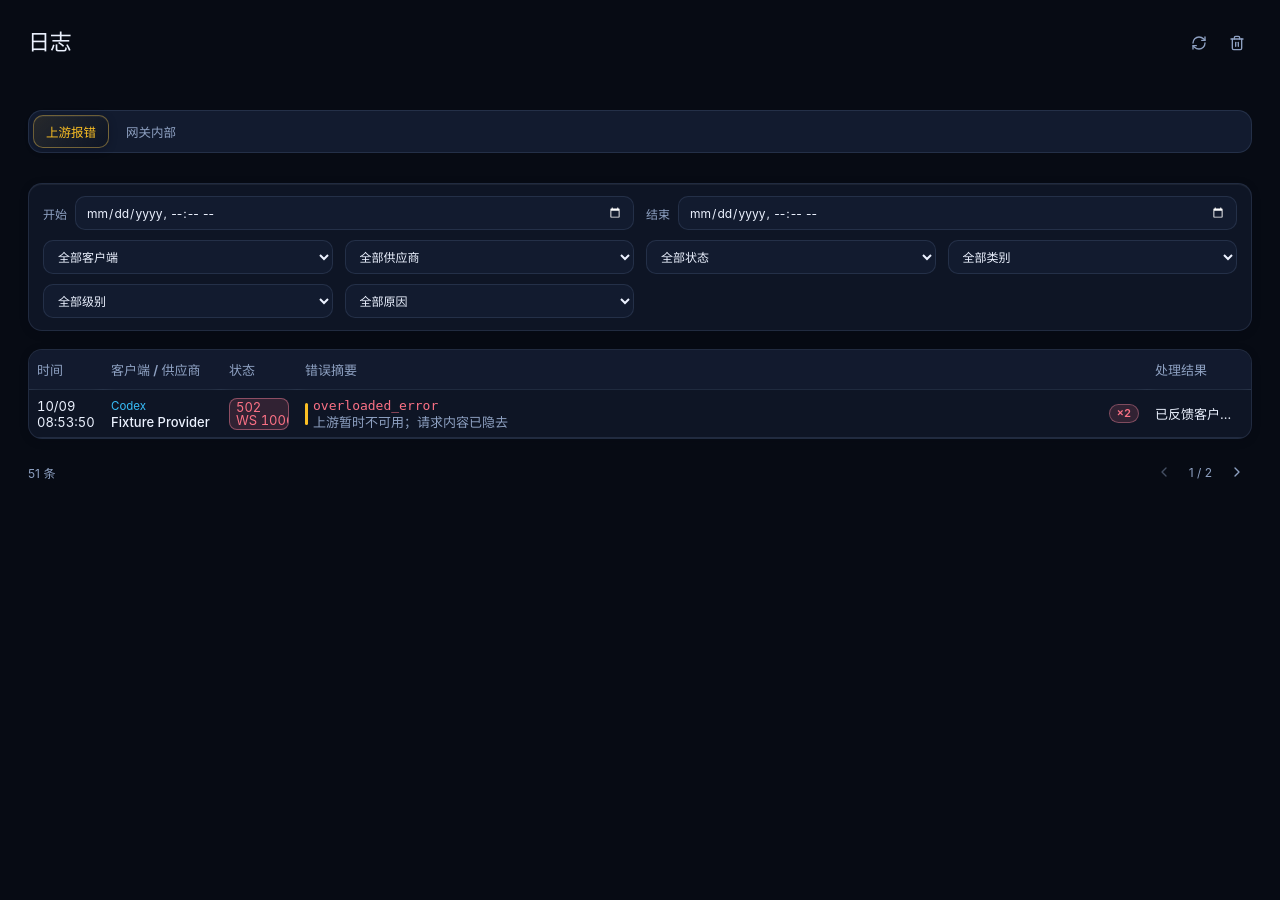
event log › shows upstream details and distinguishes WebSocket close codes from HTTP status
What coordinates should you click on to do the following:
click the button with aria-label "上游服务异常"
I would click on:
 (376, 405)
Its box is [305, 398, 1139, 430].
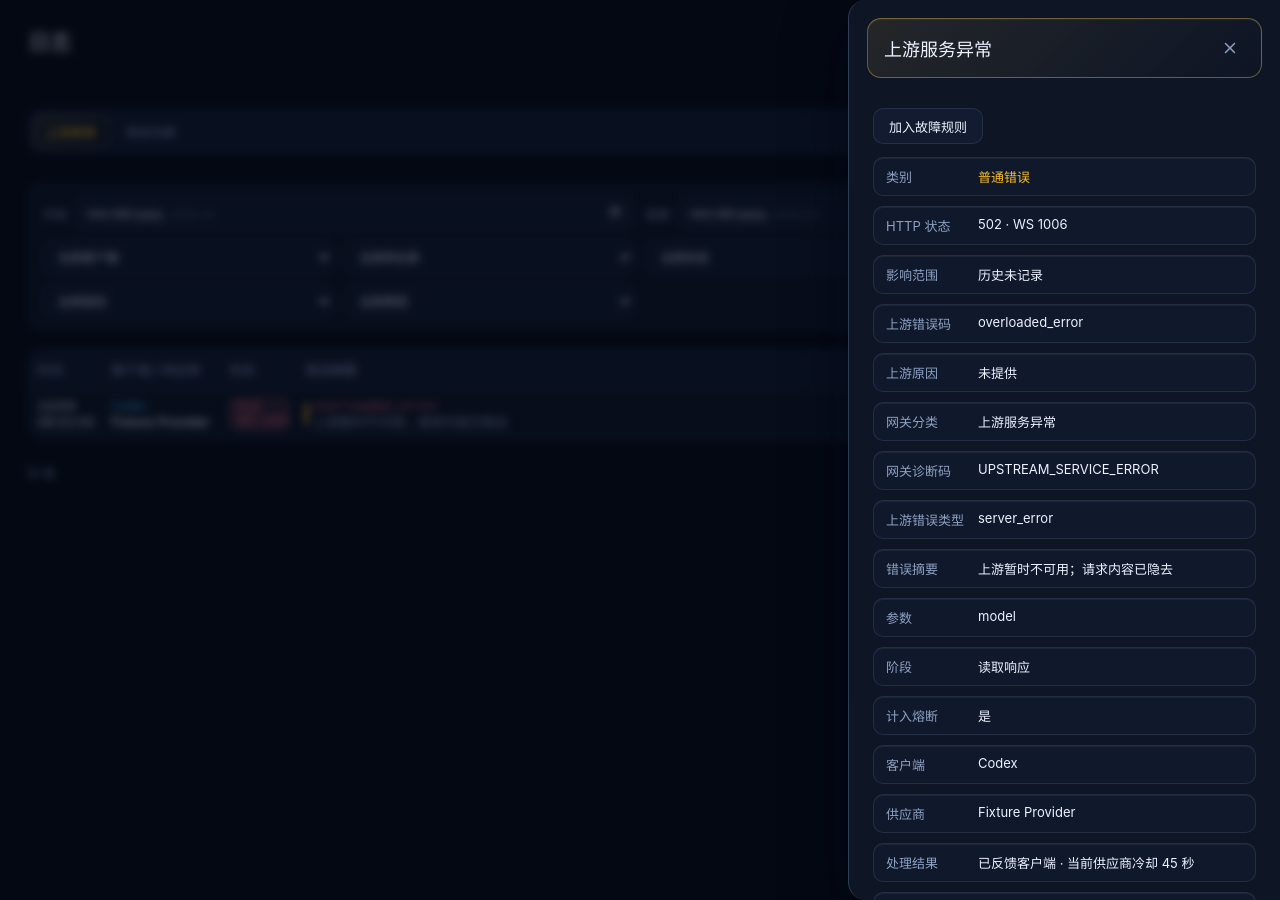
Expected: the text "502 · WS 1006" is shown, [978, 216, 1068, 232]
Expected: the text "overloaded_error" is shown, [978, 314, 1083, 330]
Expected: the text "server_error" is shown, [978, 510, 1053, 526]
